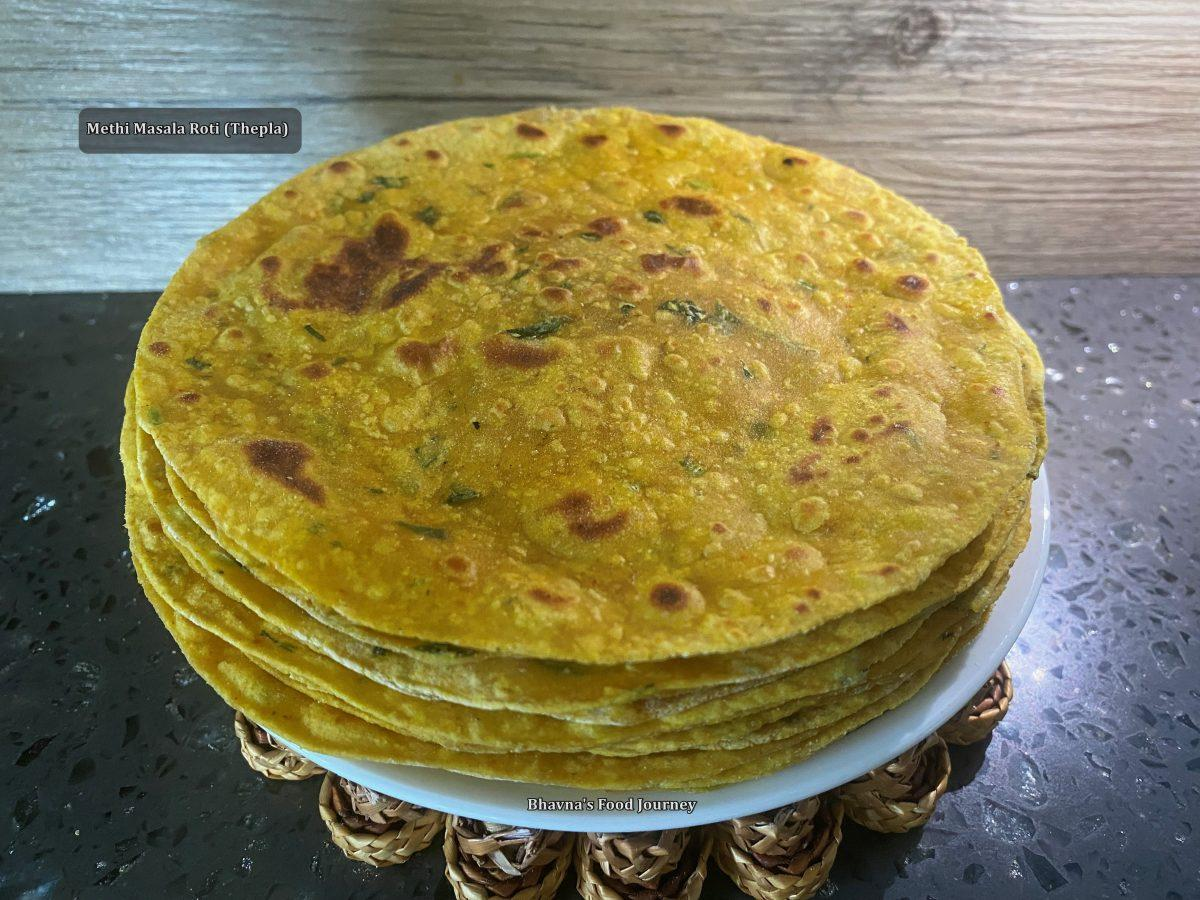thepla: (166, 123, 1027, 762)
